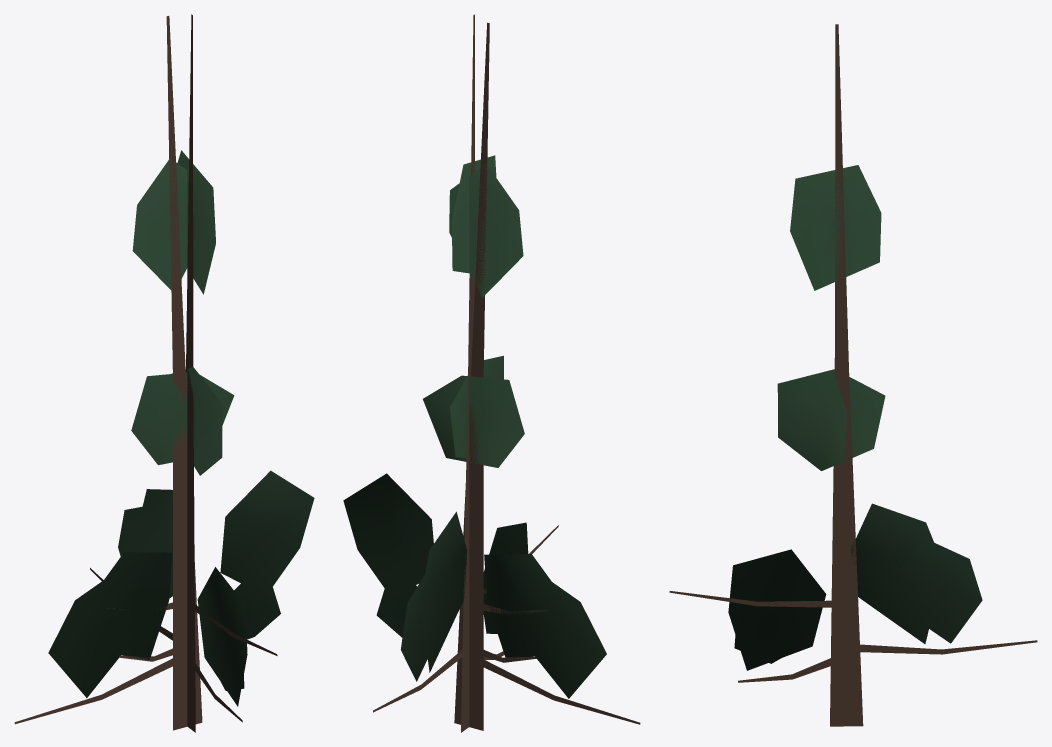
Rendered from spruce-c.card.glb.
3 renders of one model, left to right at view 1: azimuth 30°, elevation 25°; view 2: azimuth 150°, elevation 25°; view 3: azimuth 270°, elevation 25°, orthographic.
Size of the model in its own units: 6.36 by 14.5 by 6.89.
